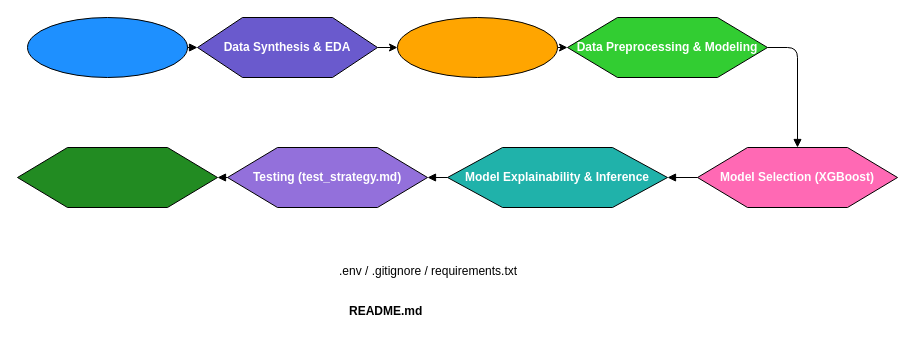
The diagram is 915 pixels wide and 345 high, and some of its shapes have lost their labels. Here are the shapes that lost their labels. From the top down, the box of each, then its label:
(26, 16, 188, 78): Raw Data (CSV)
(396, 16, 558, 78): Processed Data
(16, 146, 218, 208): Production / Deployment
